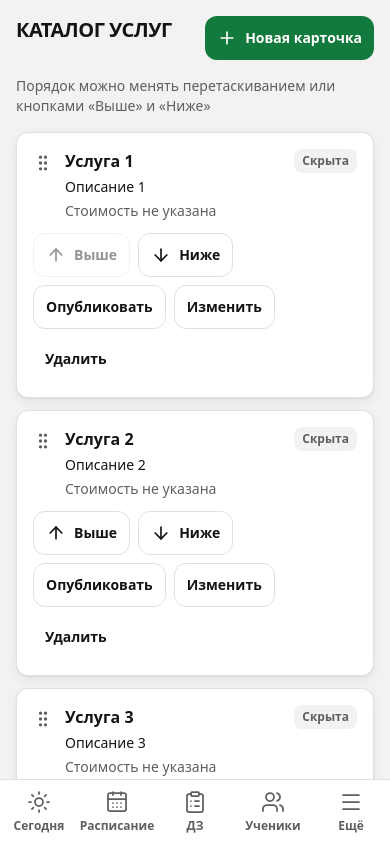
Каталог услуг › «Ниже» отправляет новый порядок на сервер
This screenshot has width=390, height=844.
What coordinates should you click on to do the following:
click the button "Ниже" below "Описание 1"
I would click on:
 (186, 255)
Its box is [138,233,233,277].
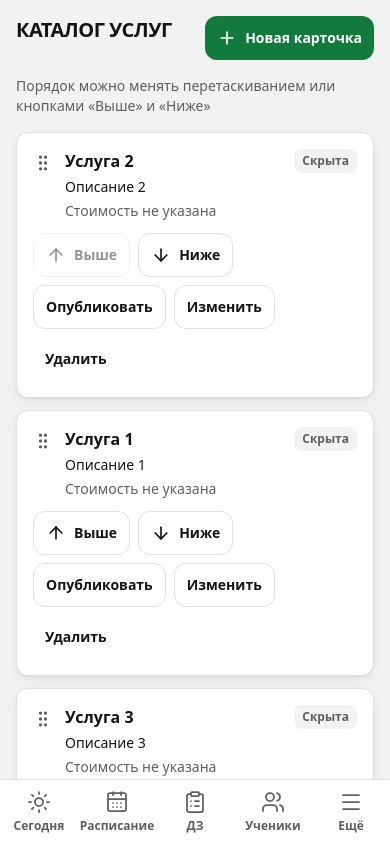
Check: the headings read "Услуга 2", "Услуга 1", "Услуга 3", in this order, box [65,150,134,172]; [65,428,134,450]; [65,706,134,728]
